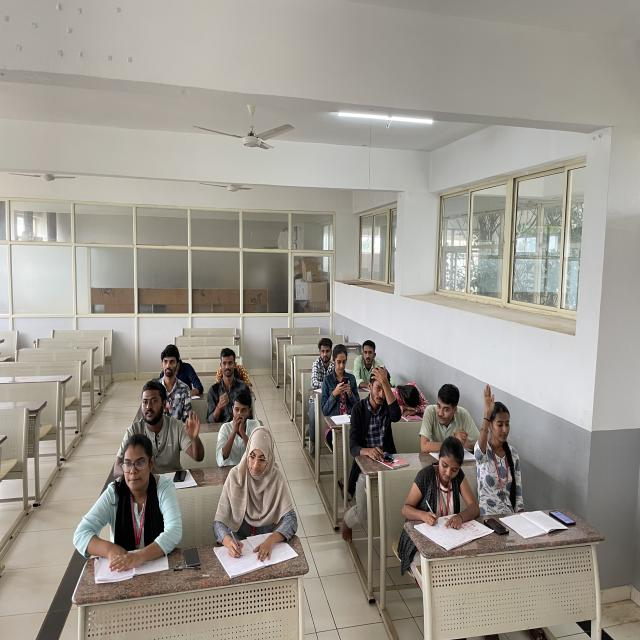Hand Rising: (118, 383, 204, 474), (474, 384, 529, 514)
Reading: (76, 433, 186, 578)
Sleeping: (392, 379, 432, 419)
Using Phone: (349, 366, 402, 469), (321, 342, 359, 416)
Writing: (204, 423, 298, 567), (402, 434, 480, 546)
